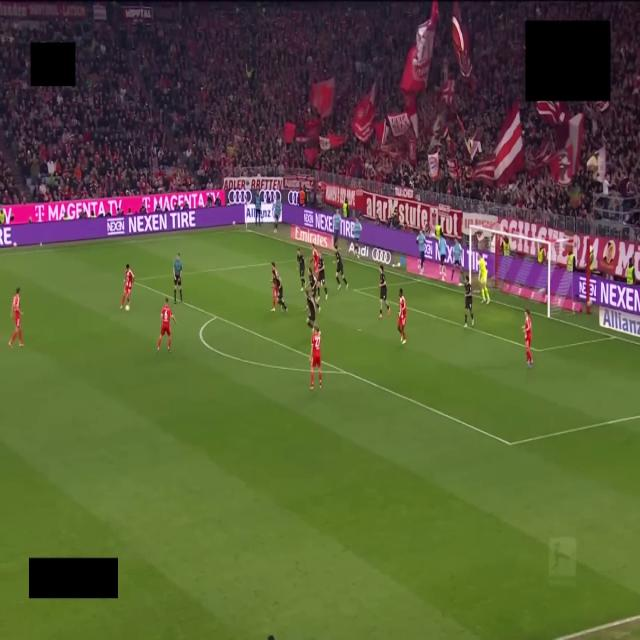ball: (124, 304, 130, 312)
player: (157, 298, 176, 352), (9, 288, 23, 347), (271, 263, 286, 311), (310, 325, 321, 390), (120, 264, 134, 309), (379, 264, 390, 318), (523, 309, 533, 367), (308, 266, 320, 311), (479, 255, 490, 303), (274, 272, 287, 311), (336, 249, 348, 289), (305, 288, 317, 328), (464, 274, 473, 327), (398, 288, 406, 343), (318, 255, 327, 299), (297, 248, 305, 291), (312, 245, 319, 275)
referee: (174, 254, 182, 303)
